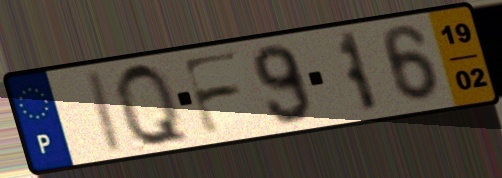1: (334, 28, 383, 116)
6: (380, 23, 443, 105)
9: (247, 41, 316, 127)
F: (177, 48, 246, 140)
I: (86, 66, 128, 158)
Q: (112, 59, 195, 150)
